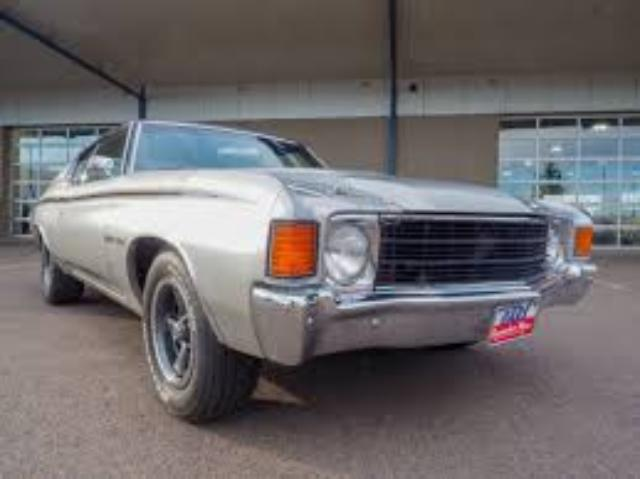chevelle-1972: (32, 124, 596, 423)
